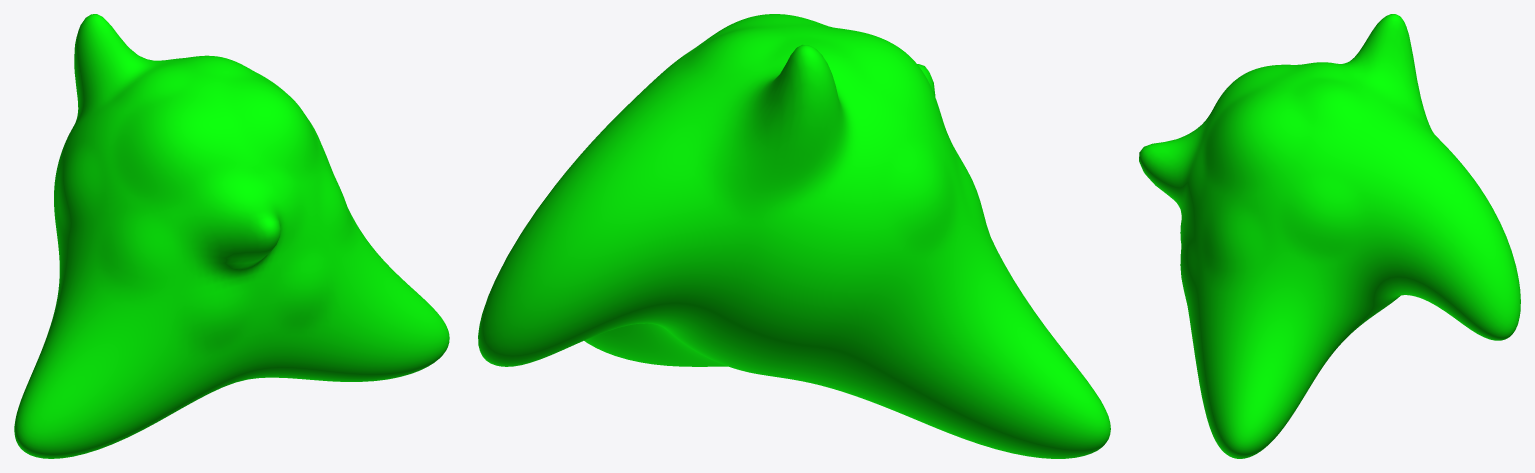
3 renders of one model, left to right at view 1: azimuth 30°, elevation 25°; view 2: azimuth 150°, elevation 25°; view 3: azimuth 270°, elevation 25°, orthographic. The views are drawn at different scales.
Visible parts, largest first — view 1: #6; view 2: #6; view 3: #6.
Boxes of the visible parts, <box> form: #6: <box>14,14,449,458</box>; #6: <box>478,14,1110,458</box>; #6: <box>1139,14,1520,458</box>.
Bounding box in the file's own units: 0.3545 × 0.279 × 0.2896.
